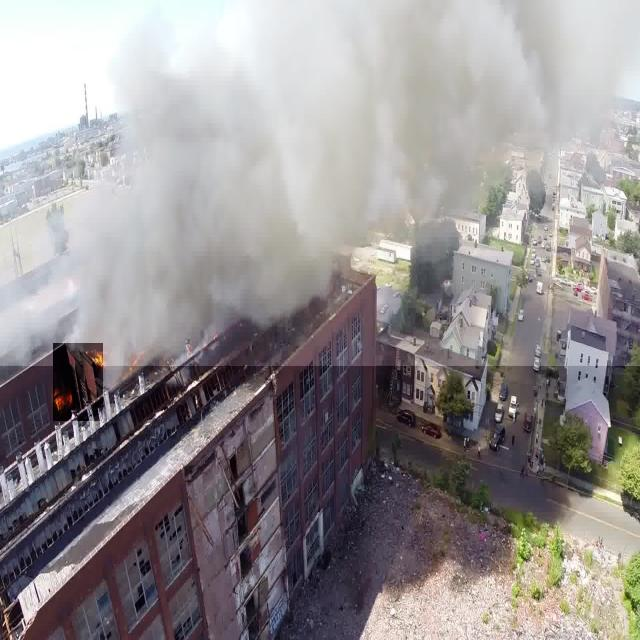Fire: (53, 343, 103, 421)
Smoke: (0, 0, 640, 366)
